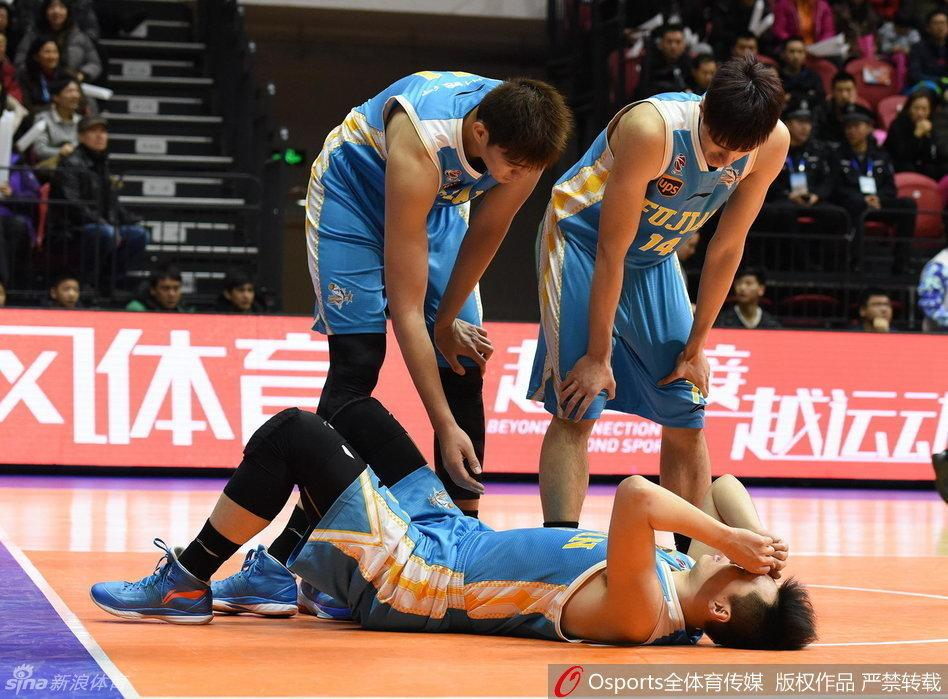bending: (293, 53, 571, 546), (521, 47, 795, 536)
down: (76, 378, 824, 655)
